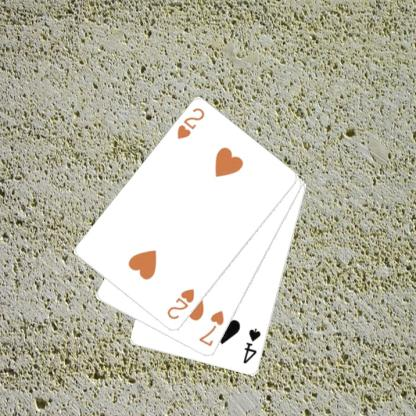2H: (164, 286, 196, 322), (174, 105, 206, 141)
4S: (240, 326, 262, 365)
7H: (196, 308, 225, 348)
